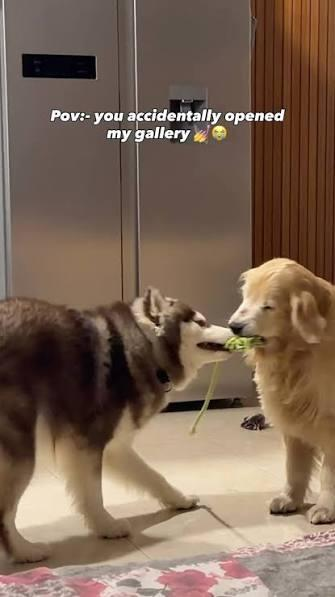adult_dog: (0, 286, 239, 564), (228, 257, 335, 525)
